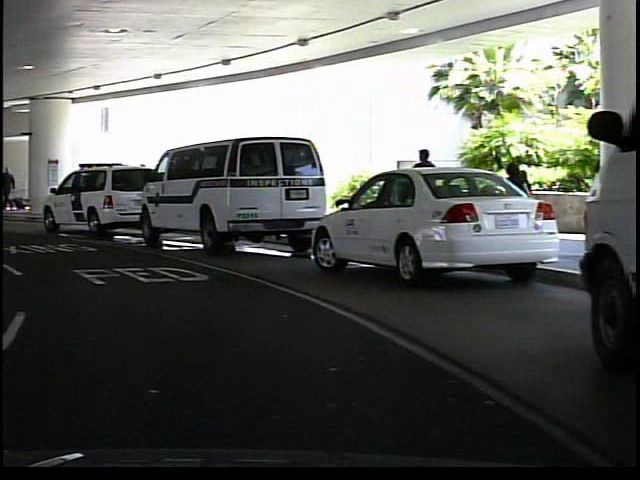person: (406, 143, 440, 242), (497, 156, 534, 246)
